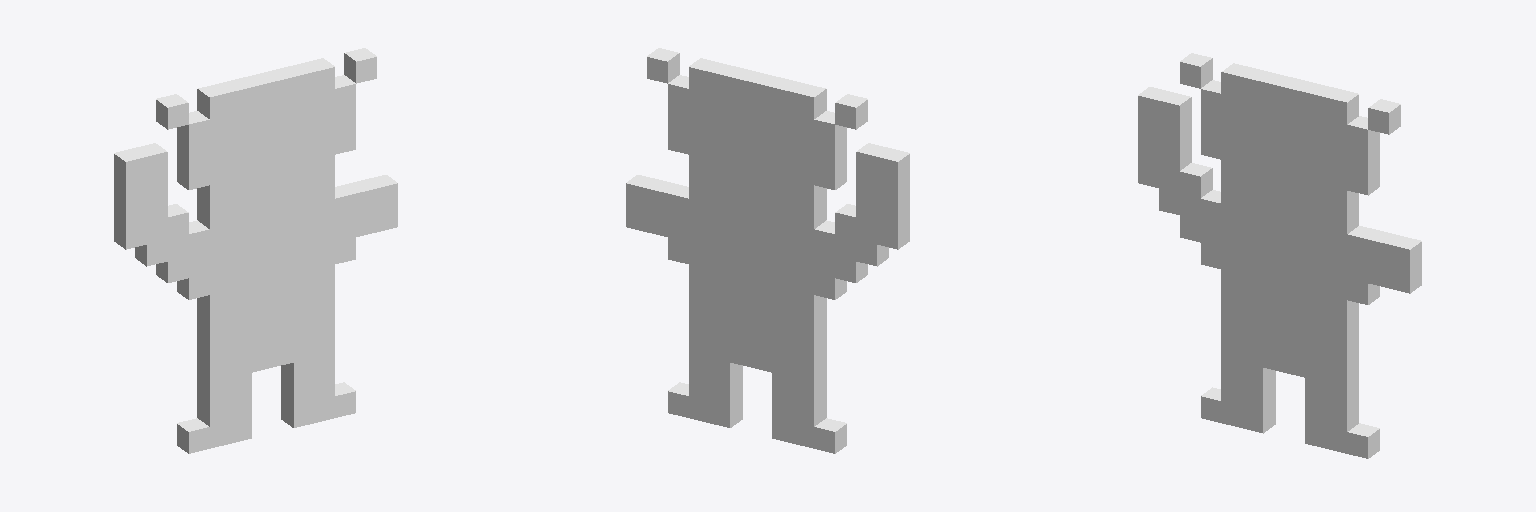
File: Climb3.obj
The picture shows the model from 3 angles: view 1: azimuth 30°, elevation 25°; view 2: azimuth 150°, elevation 25°; view 3: azimuth 330°, elevation 25°; orthographic projection.
Parts seen in each view (by area): view 1: object 1; view 2: object 1; view 3: object 1.
Part boxes in pixels (x1,y1,x2,y2): object 1: (114, 48, 397, 453); object 1: (626, 48, 909, 453); object 1: (1138, 53, 1421, 458).
Size of the model in its own units: 1.3 by 1.6 by 0.1.